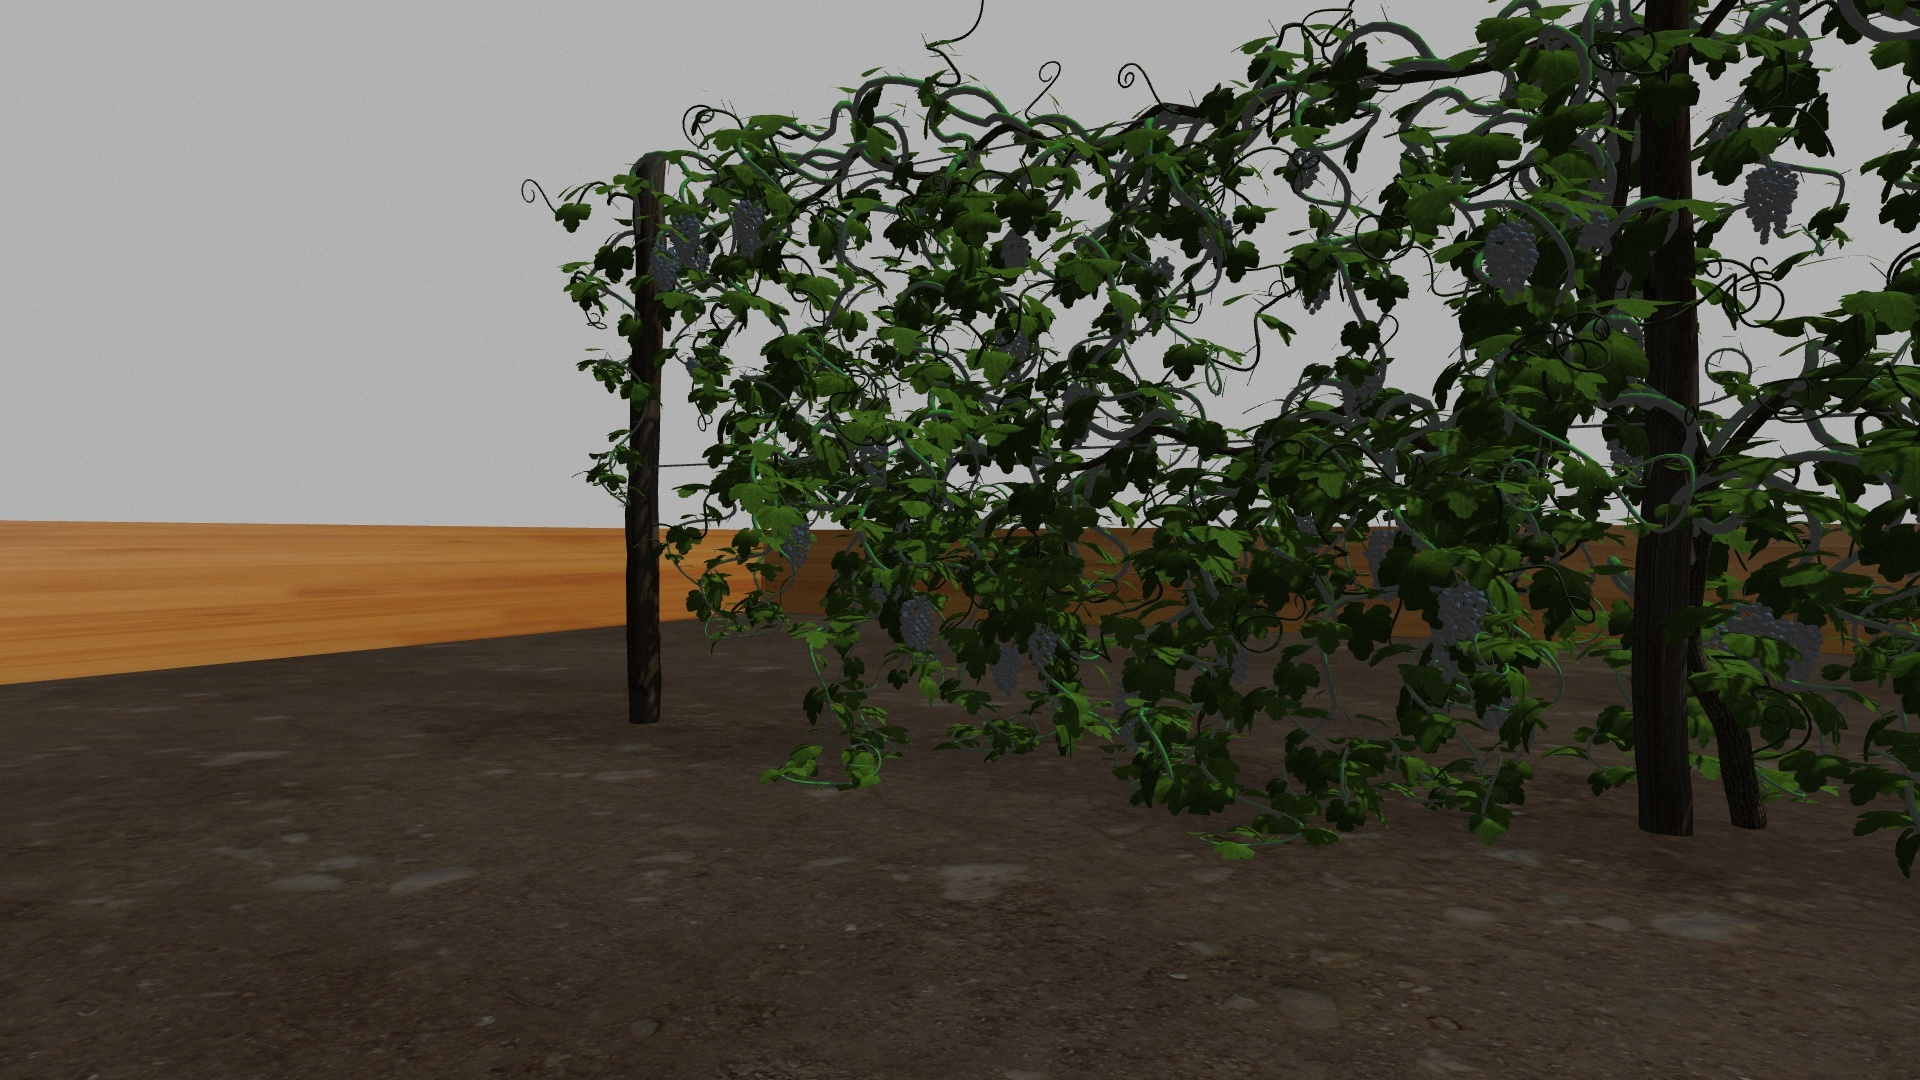grape: (1427, 584, 1487, 682), (1741, 164, 1800, 244), (1484, 219, 1539, 297), (1361, 527, 1408, 603), (1782, 620, 1824, 684), (1338, 365, 1379, 422), (1720, 604, 1782, 640), (899, 593, 934, 653), (731, 199, 764, 258), (989, 638, 1022, 698), (996, 231, 1033, 276), (669, 208, 702, 258), (1569, 212, 1609, 251), (647, 244, 679, 291), (781, 520, 812, 567), (1029, 628, 1058, 669), (1291, 158, 1323, 191), (1149, 255, 1176, 281)
